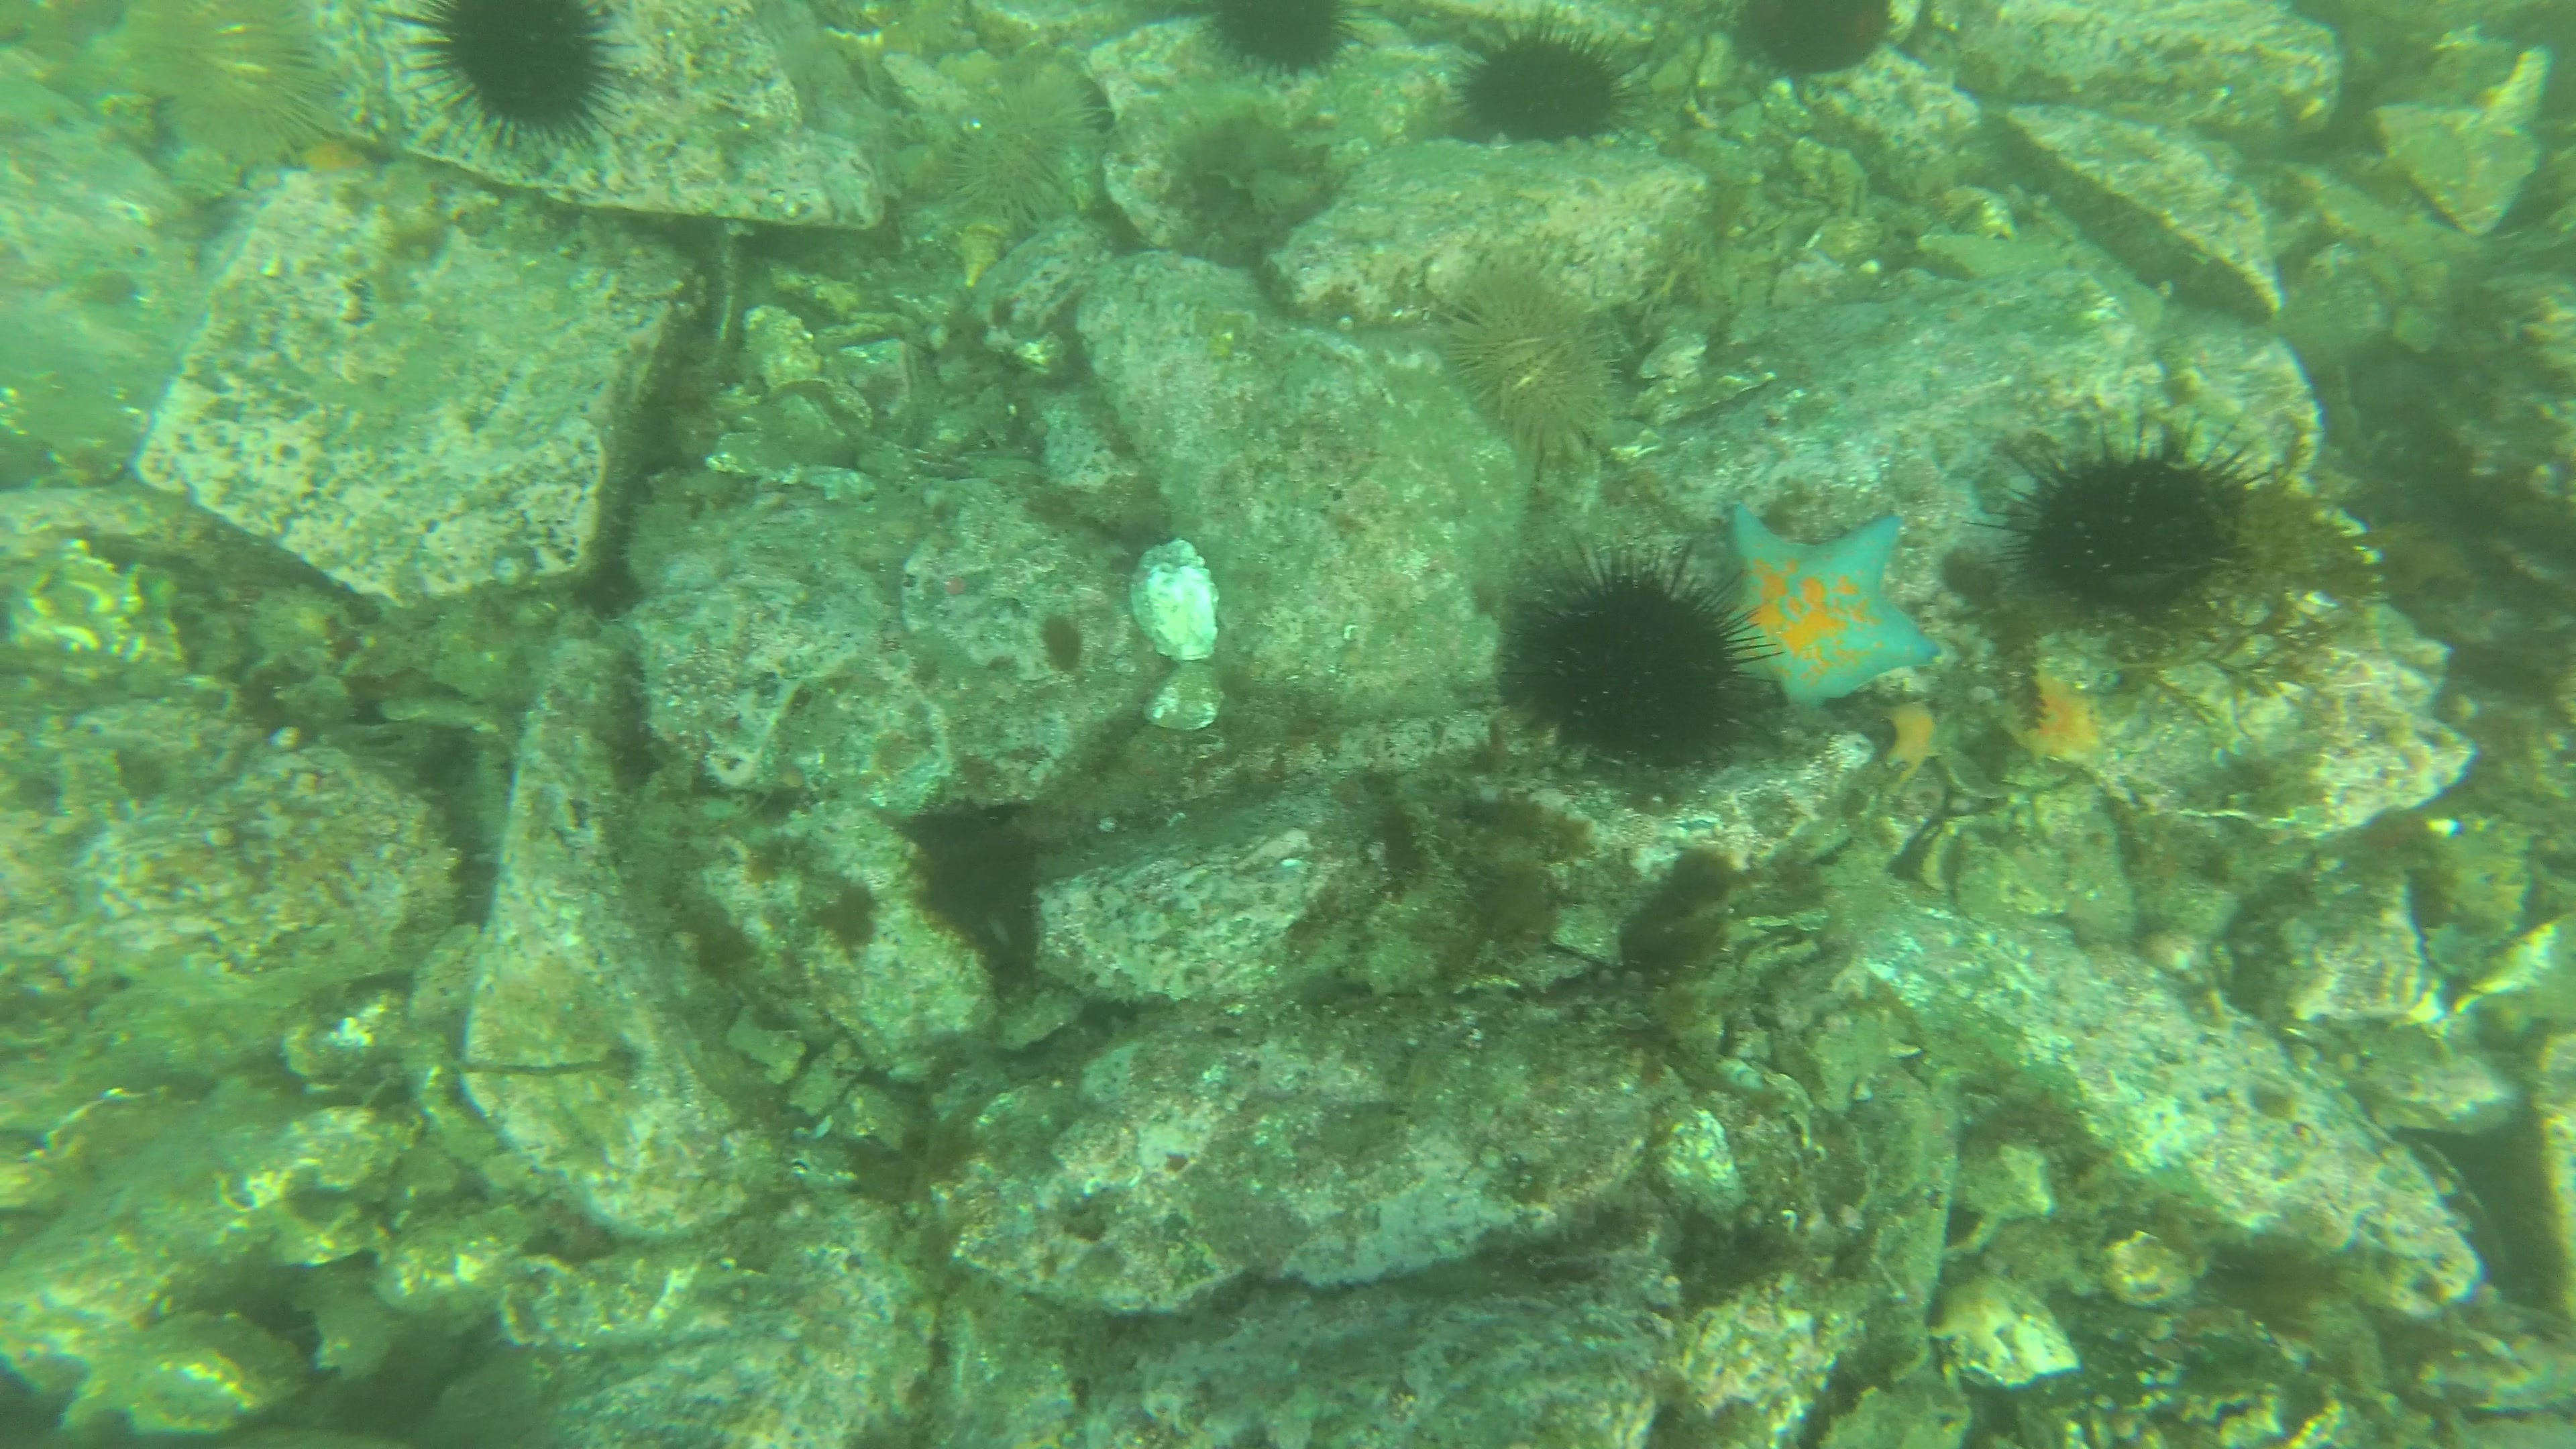echinus: (1523, 538, 1767, 763), (1999, 426, 2250, 635), (409, 0, 653, 147), (1435, 257, 1621, 441), (161, 0, 349, 156), (1445, 23, 1640, 159), (941, 87, 1088, 226), (1201, 0, 1369, 85)
starfish: (1706, 506, 1941, 727)
